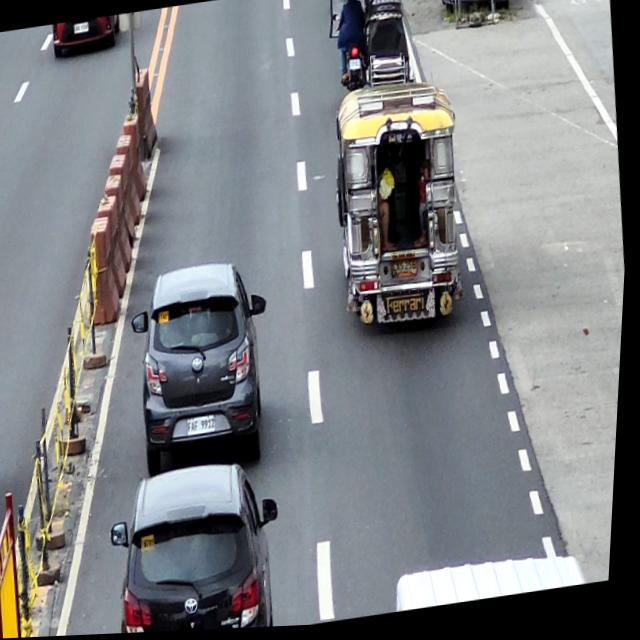Car: (124, 256, 288, 481), (105, 456, 297, 635), (52, 15, 123, 57)
Jeep: (323, 77, 479, 340)
License-Plate: (189, 416, 221, 437), (392, 260, 420, 282), (73, 21, 90, 34), (349, 61, 361, 73)
Tricycle: (326, 0, 419, 97)
